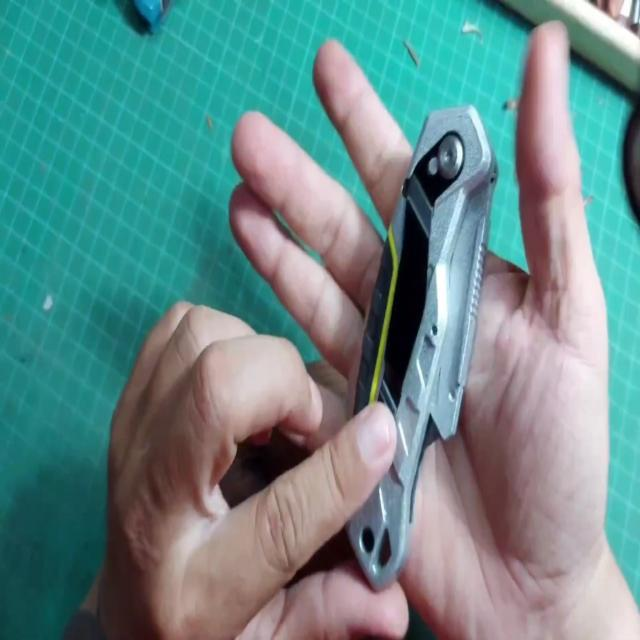cutter: (47, 0, 640, 640)
